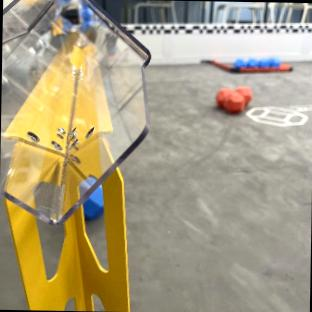Goal: (0, 0, 149, 220)
Parking-R: (203, 59, 291, 72)
V5_BLUE: (83, 184, 102, 217)
V5_RED: (215, 85, 252, 112)
